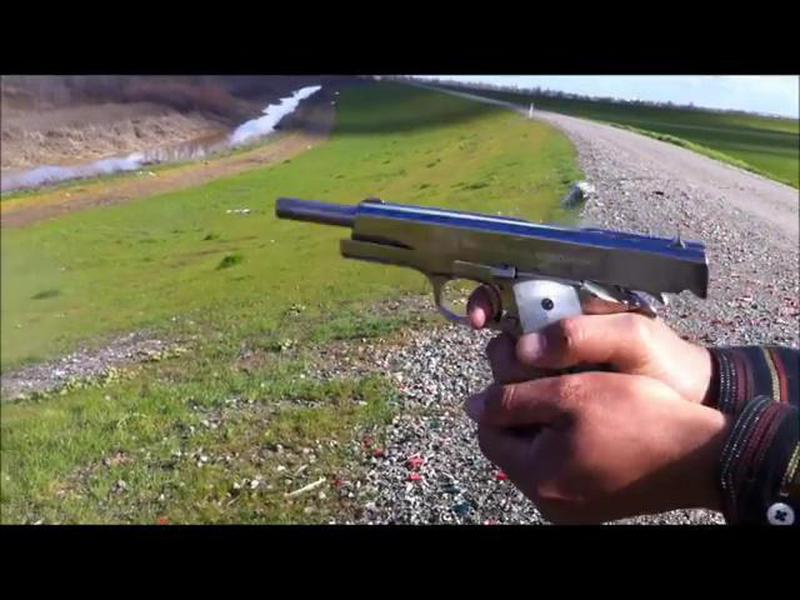Pistola: (257, 137, 764, 407)
